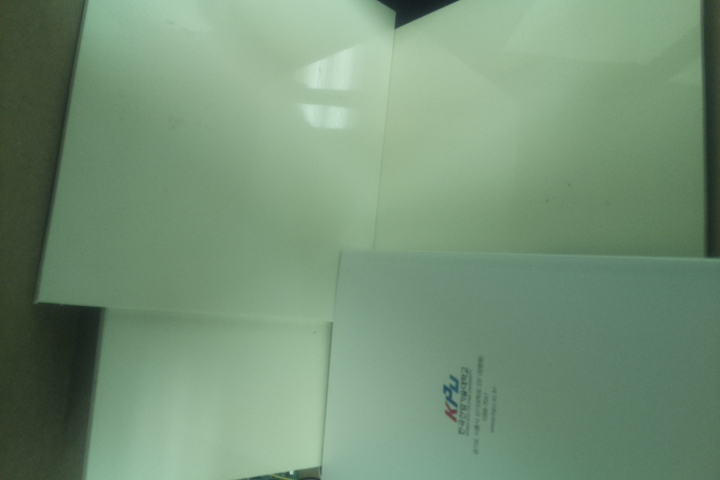book: (317, 243, 719, 480)
